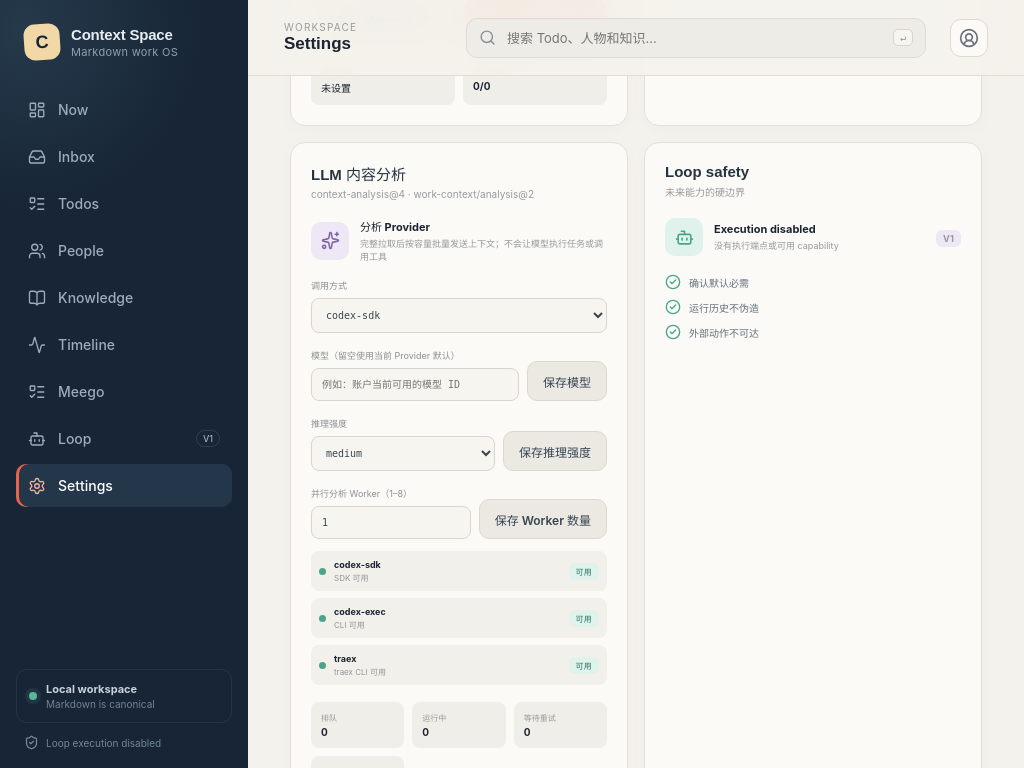
Test: Context Space workbench › saves and clears the model override for future analysis
(page scrolled)
Type "test-model" into the field named "LLM 分析模型" at (415, 385), box [311,368,519,401]
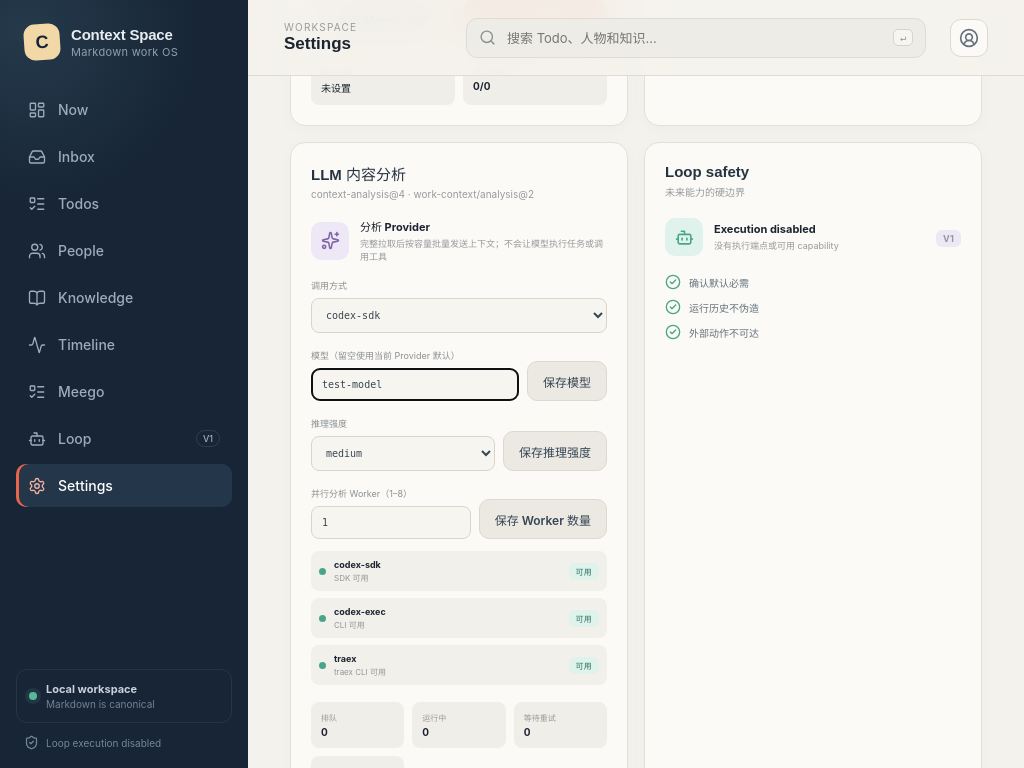
Click the button "保存模型" at (567, 381), box [527,361,607,401]
(page scrolled)
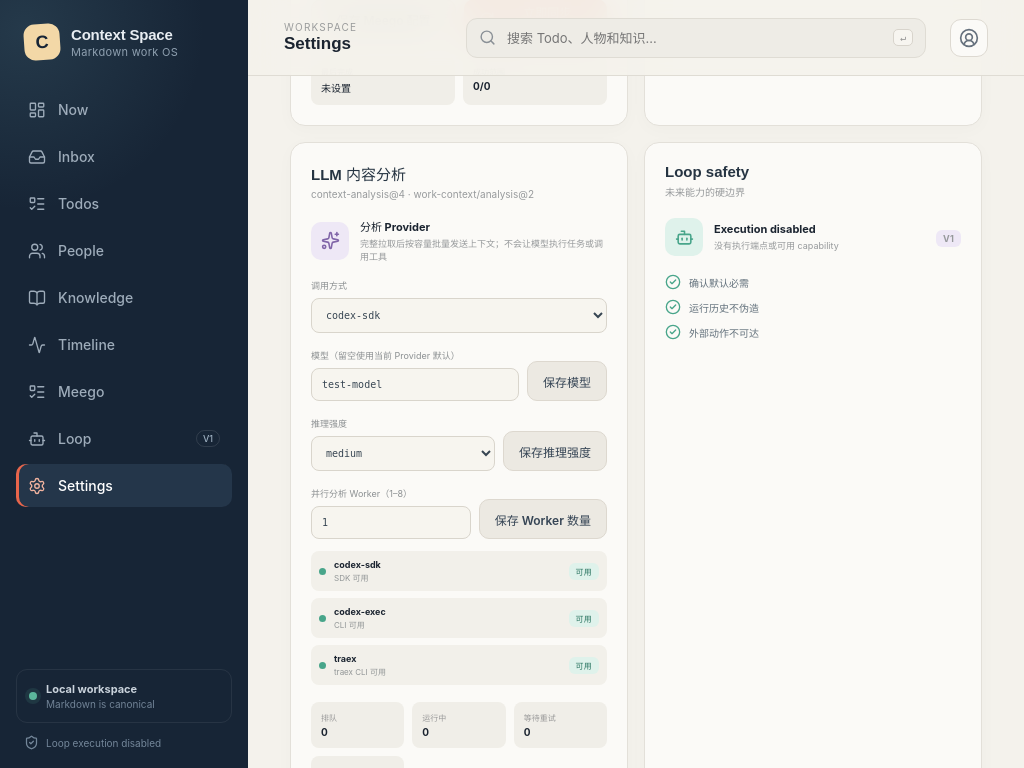
Clear the field named "LLM 分析模型" at (415, 385), box [311,368,519,401]
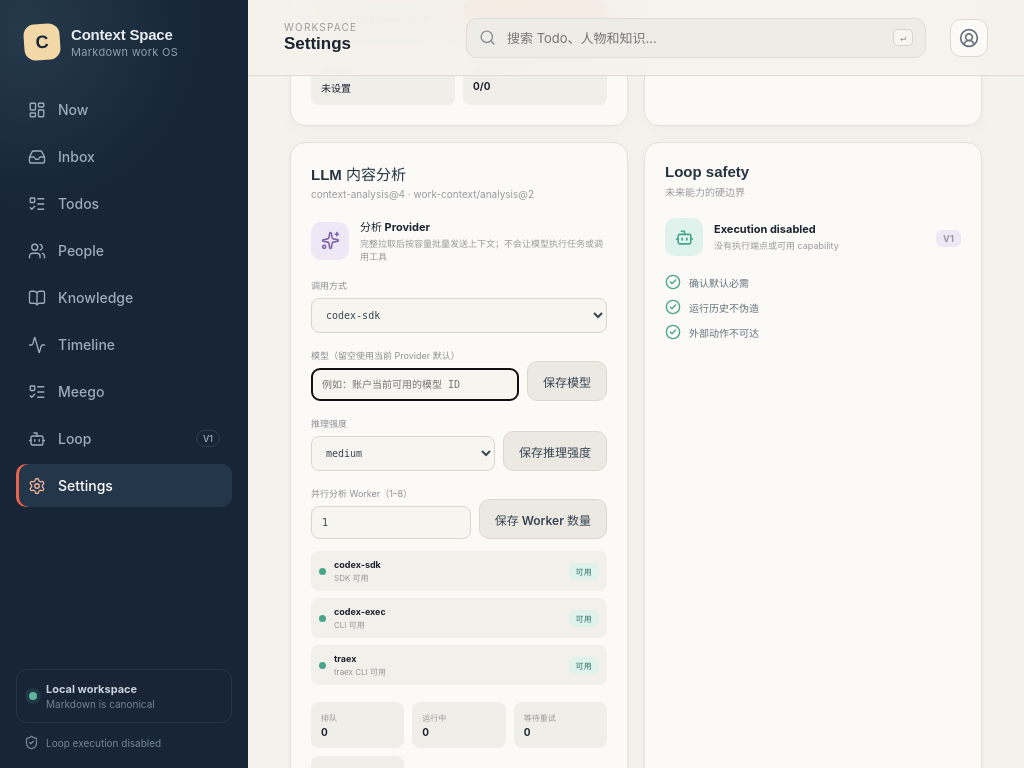
Click the button "保存模型" at (567, 381), box [527,361,607,401]
(page scrolled)
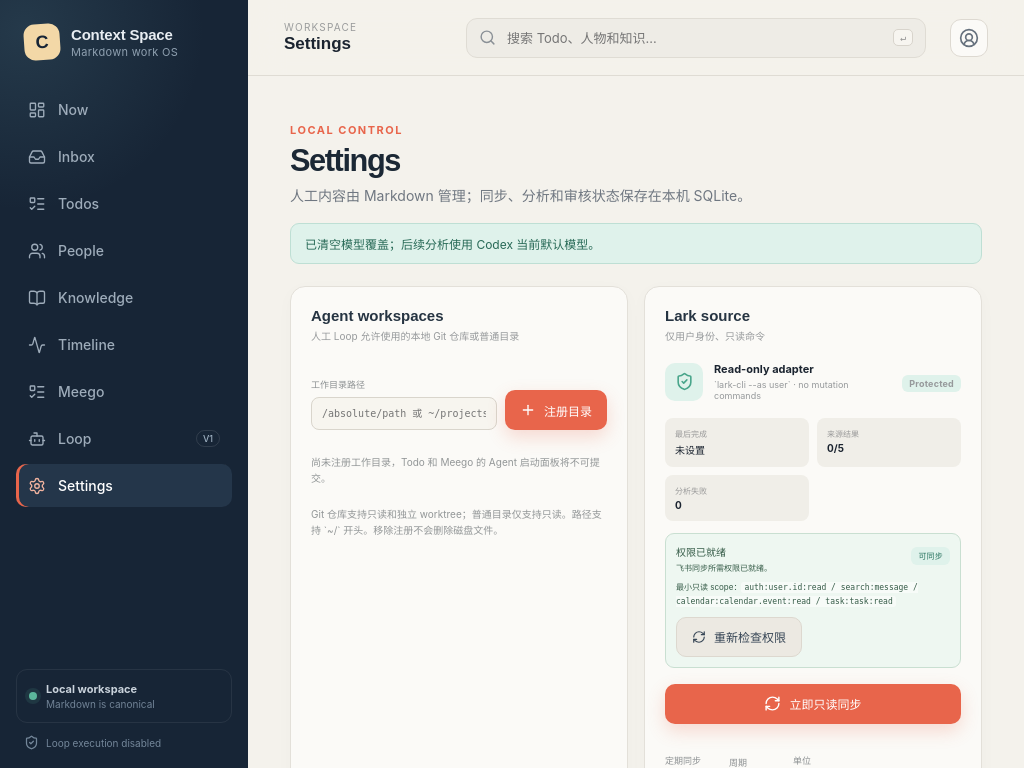
Result: the text "已清空模型覆盖；后续分析使用 Codex 当前默认模型。" is shown at [290,223,982,264]
